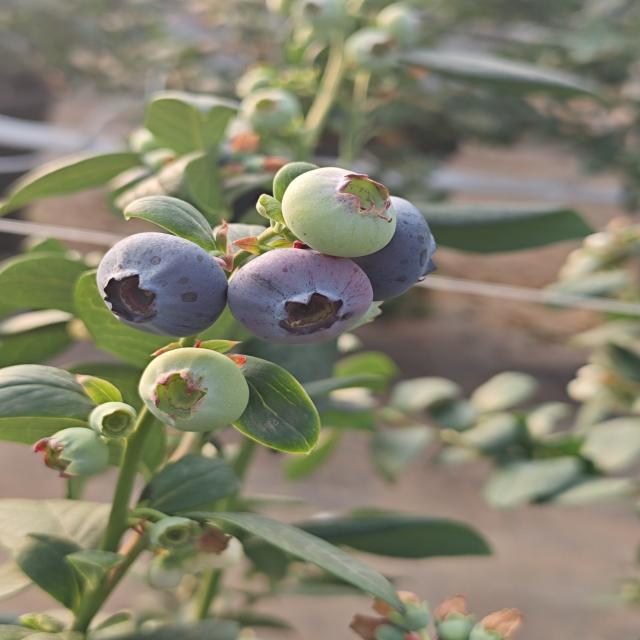ripe: (218, 244, 376, 348), (85, 229, 229, 340), (342, 194, 452, 307)
